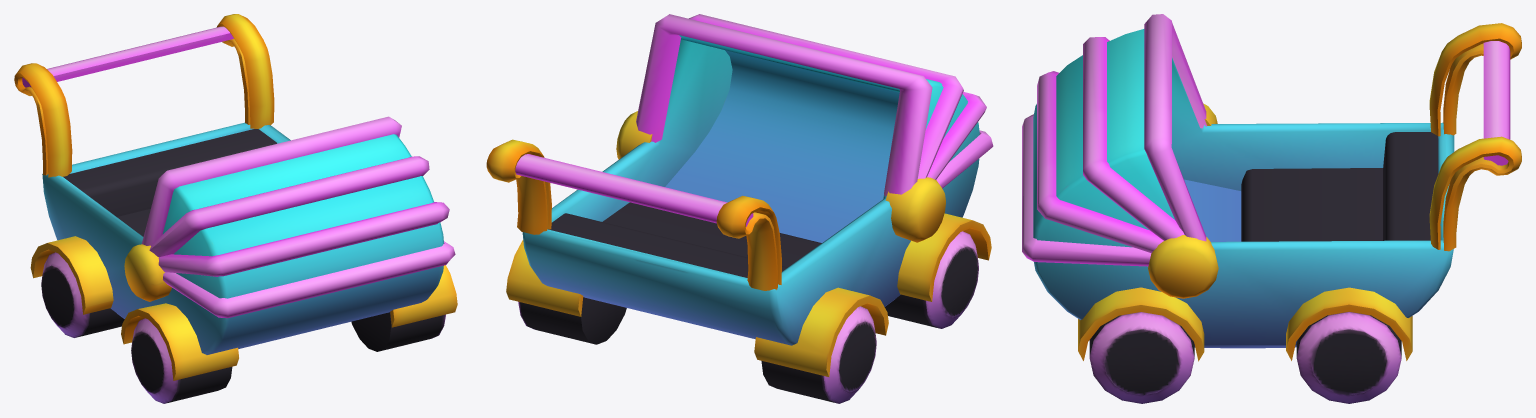
The model's file is kalyaska.fbx.
The picture shows the model from 3 angles, left to right: view 1: azimuth 30°, elevation 25°; view 2: azimuth 150°, elevation 25°; view 3: azimuth 270°, elevation 25°; orthographic projection. The views are drawn at different scales.
Visible parts, largest first — view 1: Cube.004; view 2: Cube.004; view 3: Cube.004.
Part boxes in pixels (x1=…): Cube.004: x1=14, y1=14, x2=457, y2=403; Cube.004: x1=486, y1=14, x2=993, y2=403; Cube.004: x1=1022, y1=14, x2=1521, y2=403.
Size of the model in its own units: 2.04 by 1.5 by 2.71.
